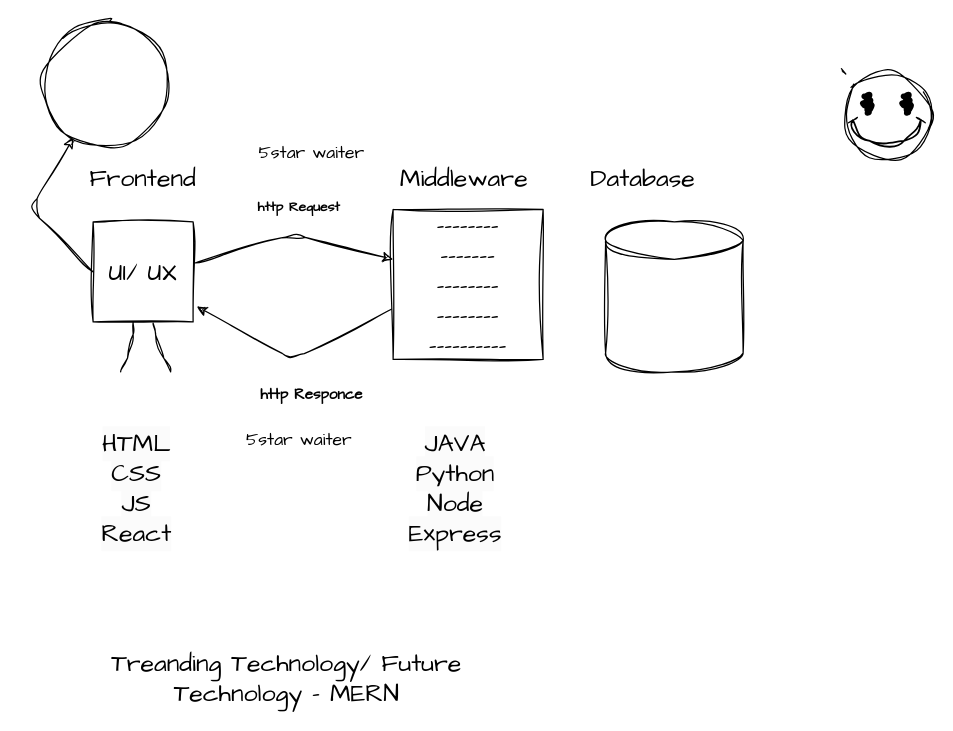
This 953x731 diagram has some shape labels left out. The shapes that lost their labels are listed below. From the top down, each one's centre as x and y in pixels, then its label:
[105,84]: Browser Search Engine
[673,296]: SQL MongoDB
